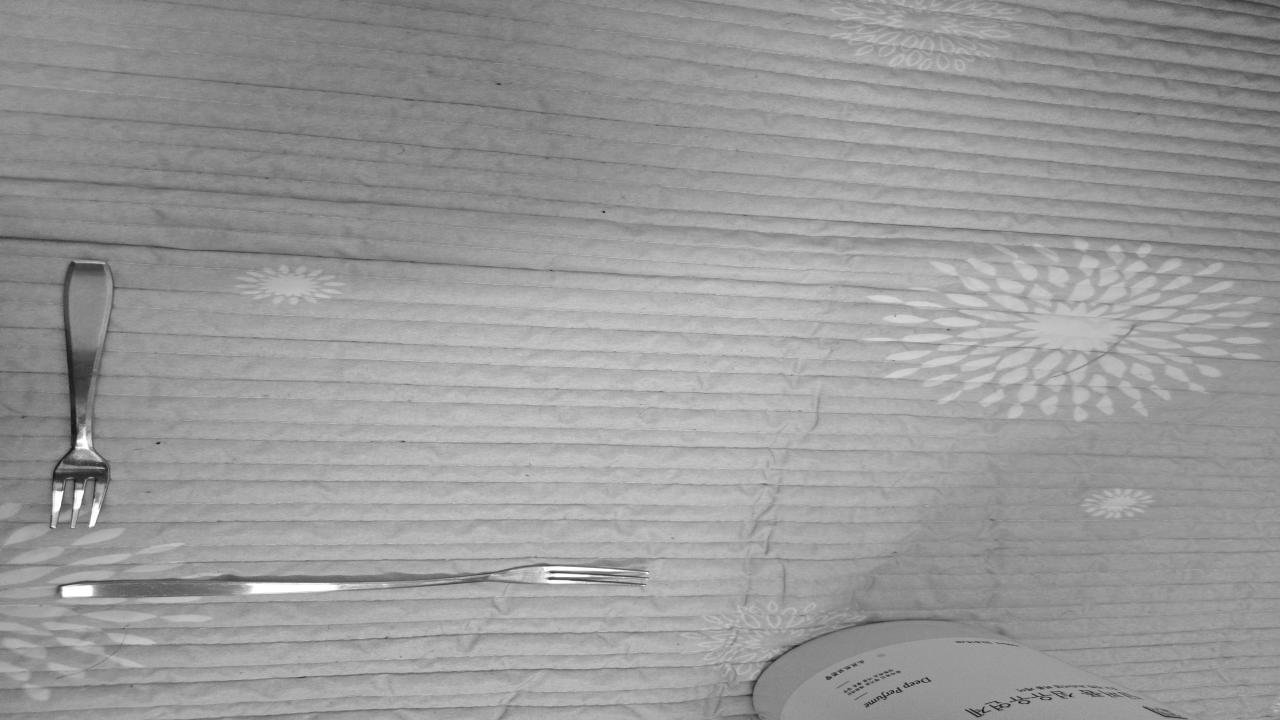fork: (50, 259, 126, 531), (64, 565, 648, 599)
